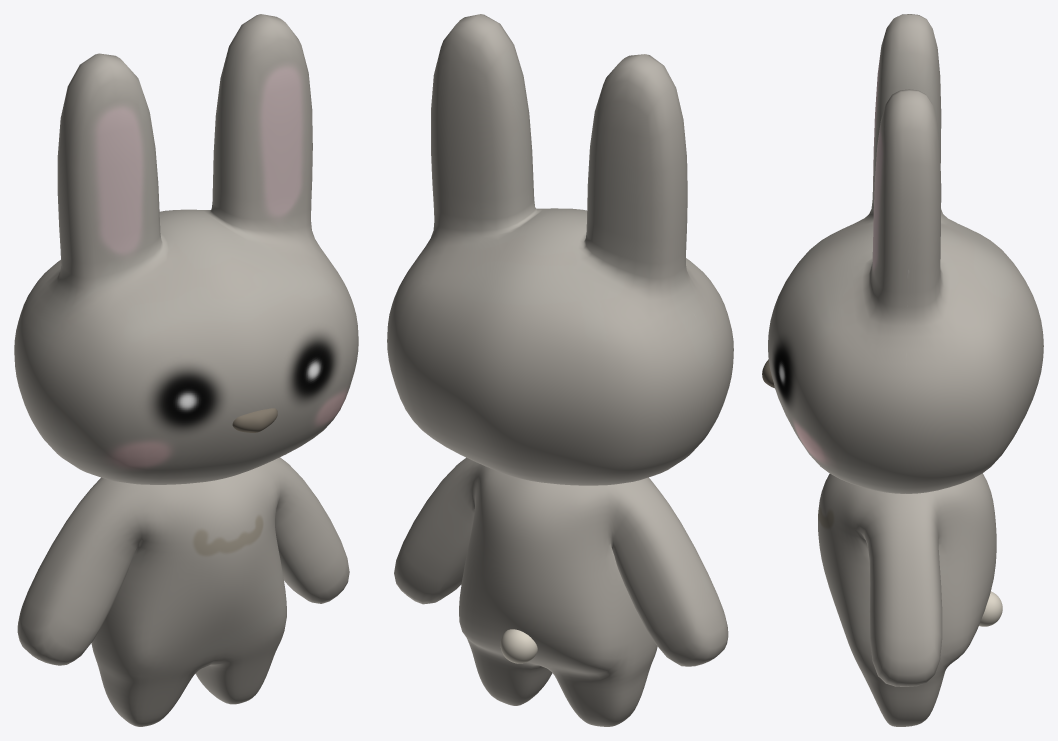
Rendered from rabbit (1).fbx.
3 renders of one model, left to right at view 1: azimuth 30°, elevation 25°; view 2: azimuth 150°, elevation 25°; view 3: azimuth 270°, elevation 25°, orthographic. The views are drawn at different scales.
Visible parts, largest first — view 1: head.003, body.003, Roundcube.010; view 2: head.003, body.003, Roundcube.009; view 3: head.003, body.003, Roundcube.009.
Part boxes in pixels (x1=…): head.003: x1=14, y1=14, x2=358, y2=484; body.003: x1=17, y1=457, x2=349, y2=726; Roundcube.010: x1=232, y1=408, x2=277, y2=432; head.003: x1=387, y1=14, x2=733, y2=485; body.003: x1=394, y1=457, x2=728, y2=726; Roundcube.009: x1=500, y1=629, x2=537, y2=663; head.003: x1=768, y1=14, x2=1043, y2=493; body.003: x1=818, y1=473, x2=996, y2=726; Roundcube.009: x1=979, y1=591, x2=1002, y2=626.
Size of the model in its own units: 69.6 by 141 by 55.33.
Materials: 3 (1 with a texture image).
